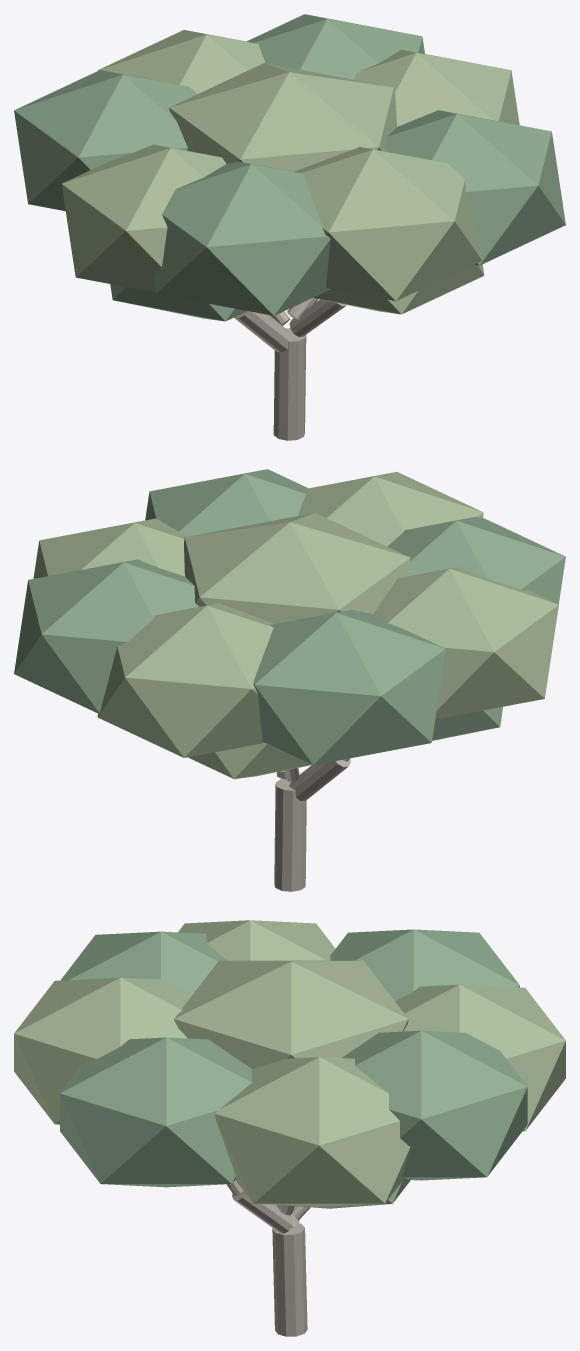
File: plane-tree-massing-a.glb
The picture shows the model from 3 angles, top to bottom: view 1: azimuth 30°, elevation 25°; view 2: azimuth 150°, elevation 25°; view 3: azimuth 270°, elevation 25°; orthographic projection.
Visible parts, largest first — view 1: plane-tree-massing-a; view 2: plane-tree-massing-a; view 3: plane-tree-massing-a.
Boxes of the visible parts, x1,y1,x2,y2 form: plane-tree-massing-a: [14, 14, 565, 440]; plane-tree-massing-a: [14, 469, 565, 891]; plane-tree-massing-a: [14, 920, 565, 1336].
Size of the model in its own units: 10.83 by 7.98 by 10.82.
